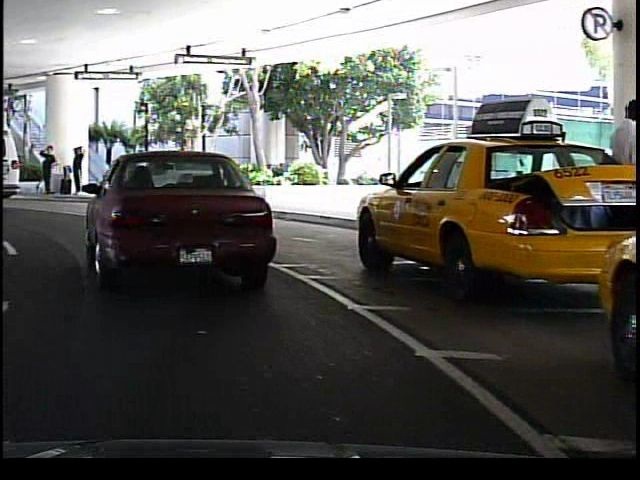person: (581, 98, 640, 263), (124, 143, 153, 200), (34, 141, 56, 200), (66, 141, 85, 198)
